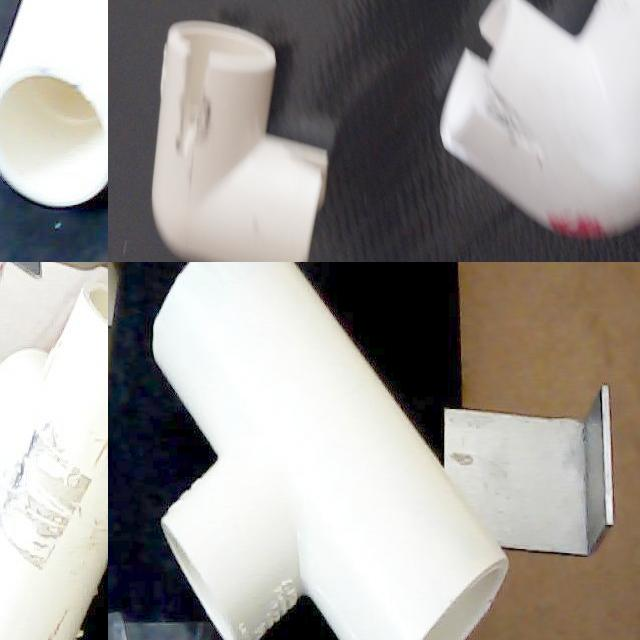Defective: (0, 411, 91, 569), (87, 340, 108, 515), (0, 613, 71, 640)
L Joint: (190, 222, 422, 262)
T Joint: (152, 262, 509, 640), (0, 279, 108, 640)
